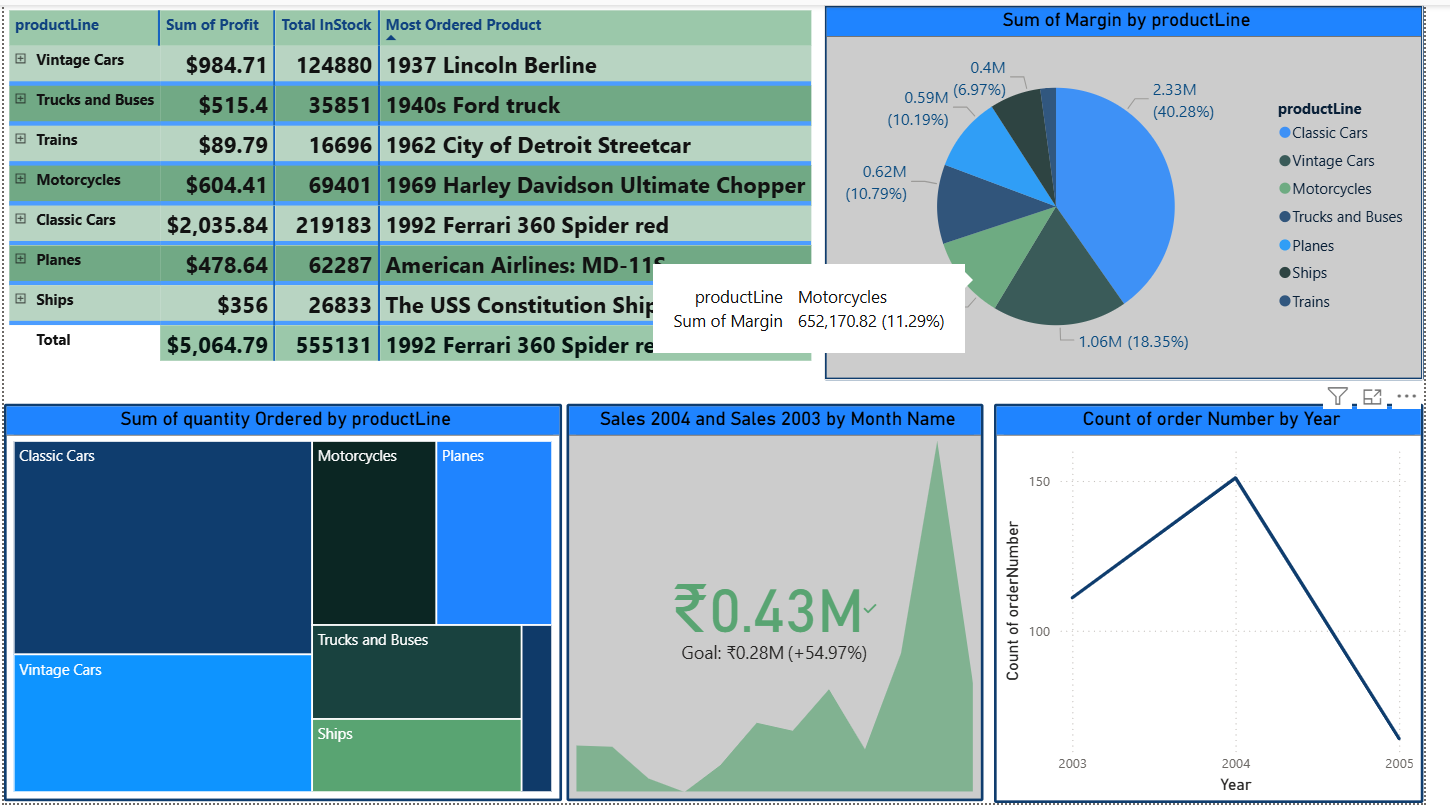

Layout of this report page (visuals, bound fields, positions):
{"tool":"powerbi","page":{"name":"Page 2","canvas":[1280,720],"ordinal":1},"visuals":[{"type":"pivotTable","fields":{"Rows":["products.productLine","products.productName"],"Values":["Sum(products.Profit)","Sum(products.quantityInStock)","ProductsByQuantity.Most Ordered Product"]},"box":[0,0,738.9,360.1],"z":0},{"type":"lineChart","title":"Count of order Number by Year","fields":{"Y":["CountNonNull(orders.orderNumber)"],"Category":["orders.orderDate.Variation.Date Hierarchy.Year"]},"box":[893.8,359.6,386.6,360.7],"z":1000},{"type":"pieChart","fields":{"Y":["Sum(order details.Margin)"],"Category":["products.productLine"]},"box":[738.9,0,540.8,338.4],"z":5000},{"type":"treemap","title":"Sum of quantity Ordered by productLine","fields":{"Group":["productlines.productLine"],"Values":["Sum(order details.quantityOrdered)"]},"box":[0,360.1,503.2,358.6],"z":6000},{"type":"kpi","fields":{"TrendLine":["orders.Month Name"],"Indicator":["order details.Sales 2004"],"Goal":["order details.Sales 2003"]},"box":[507.6,360.1,376,358.6],"z":7000}]}

Visuals, with their boxes in screenshot pixels (x1, y1, x2, y2), scaled from the page's 1280x720 canvas onto the 1450x810 screenshot:
pivotTable - products.productLine x products.productName: <region>0, 0, 837, 405</region>
"Count of order Number by Year" lineChart: <region>1013, 405, 1449, 809</region>
pieChart - Sum(order details.Margin) x products.productLine: <region>837, 0, 1449, 381</region>
"Sum of quantity Ordered by productLine" treemap: <region>0, 405, 570, 809</region>
kpi - orders.Month Name x order details.Sales 2004: <region>575, 405, 1001, 809</region>
